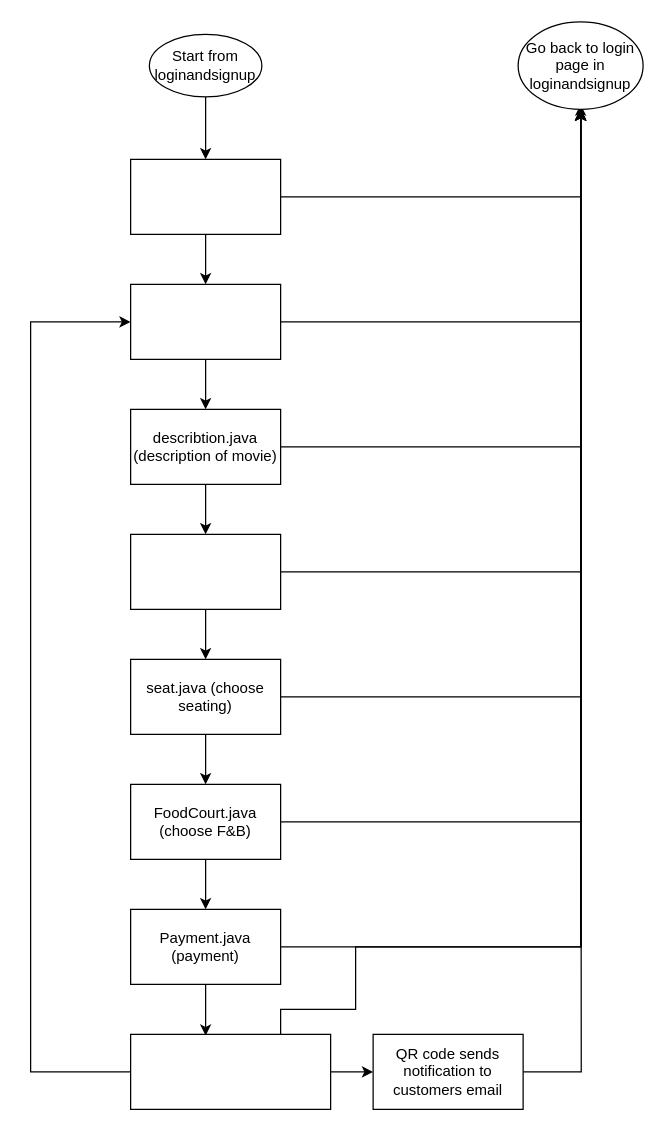
Some shapes in this 665 by 1131 pixel diagram are drawn without their labels. The shapes that lost their labels are listed below. From the top down, each one's centre as x and y in pixels, then its label:
pixel 205 196: main.java (early stage GUI)
pixel 205 321: picker.java (pick moveis)
pixel 205 571: dataSelector.java (select date and time to watch movie)
pixel 230 1071: JavaFX_QRCodeWriter.java (scan QR code for ticket and notification)
